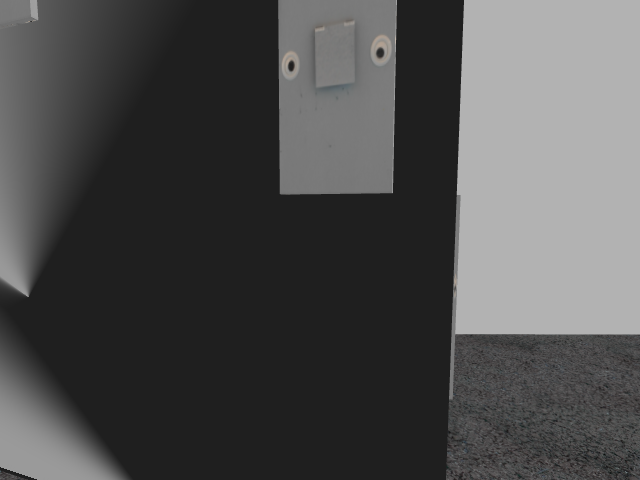facade: (280, 20, 392, 92)
